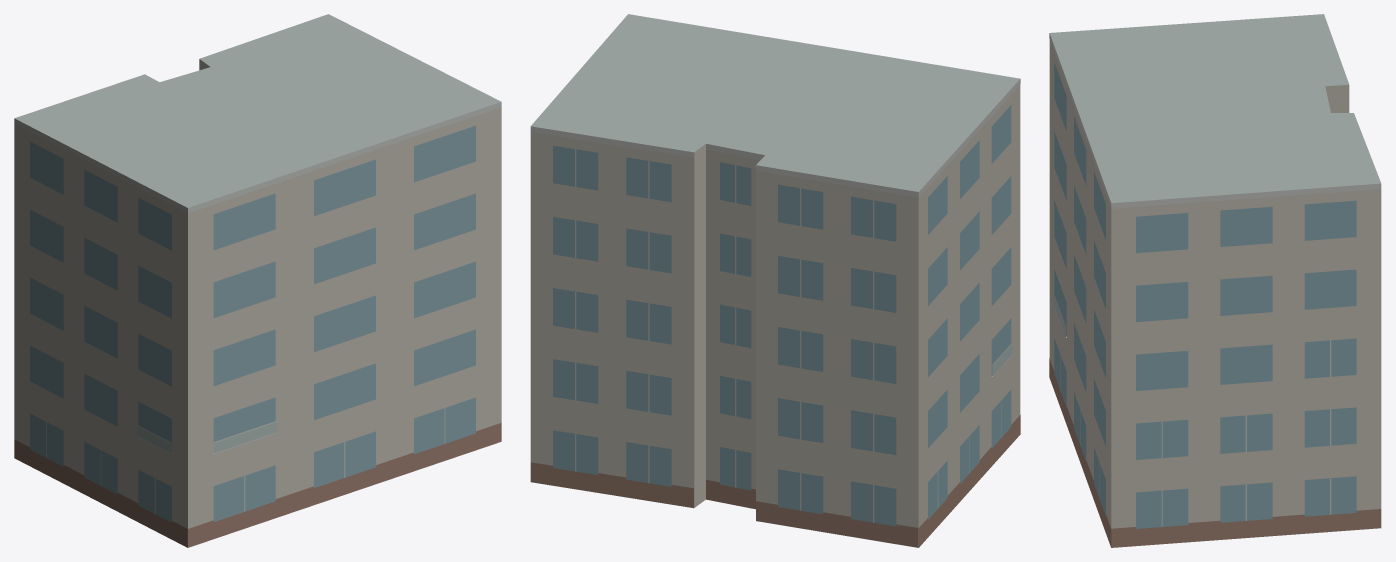
File: survey-upis-33017291.glb
The picture shows the model from 3 angles, left to right: view 1: azimuth 30°, elevation 25°; view 2: azimuth 150°, elevation 25°; view 3: azimuth 270°, elevation 25°; orthographic projection. The views are drawn at different scales.
Visible parts, largest first — view 1: survey-upis-33017291.tmp; view 2: survey-upis-33017291.tmp; view 3: survey-upis-33017291.tmp.
Boxes of the visible parts, box(x1,y1,x2,y2) form: survey-upis-33017291.tmp: box(14, 14, 501, 547); survey-upis-33017291.tmp: box(530, 14, 1020, 547); survey-upis-33017291.tmp: box(1049, 14, 1381, 547).
Bounding box in the file's own units: 17.97 × 15.25 × 13.32.
